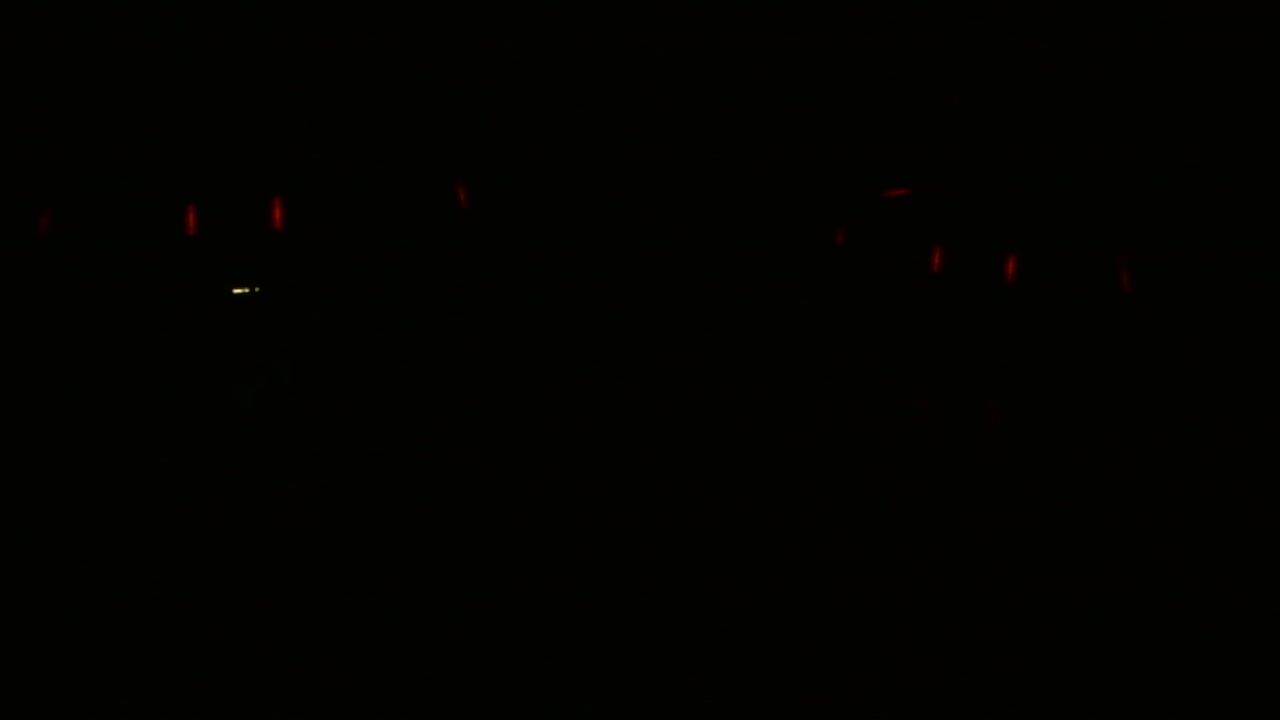pair1: (179, 195, 287, 239), (924, 244, 1021, 283)
